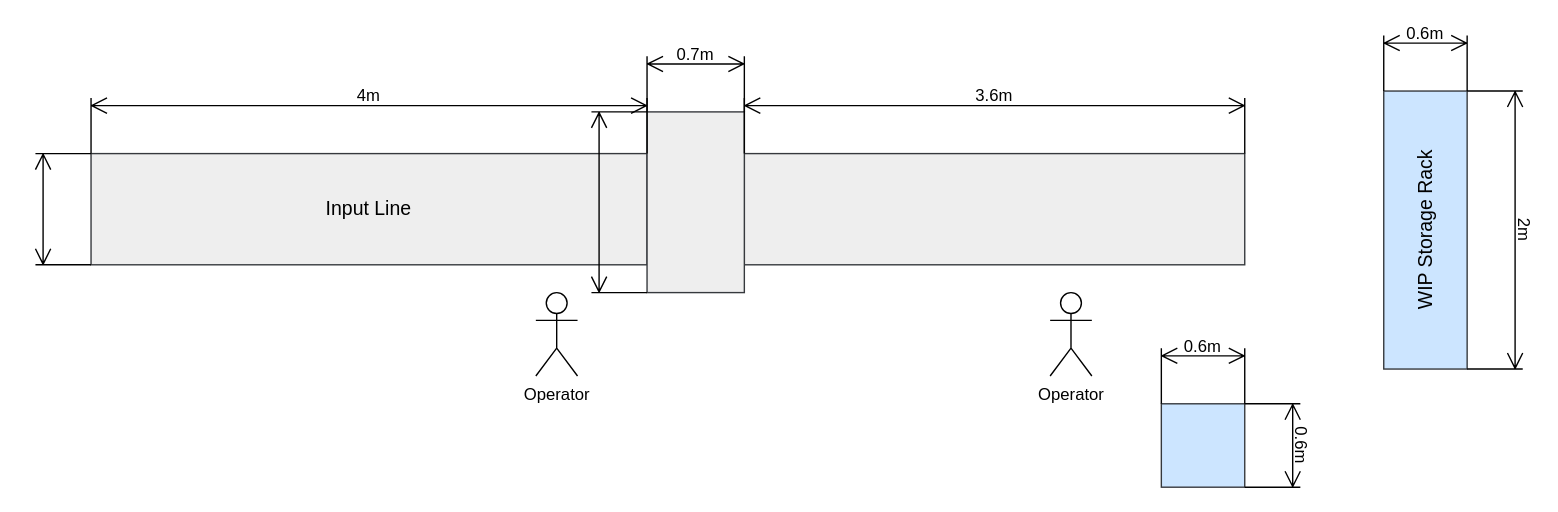
Some shapes in this 1558 by 512 pixel diagram are drawn without their labels. Here are the shapes that lost their labels. From the top down, the centre of each, then its label:
point 62,208: 0.8m
point 618,202: 1.3m
point 695,202: Cutter
point 994,208: Output Line
point 1202,444: Cutoff Bin
